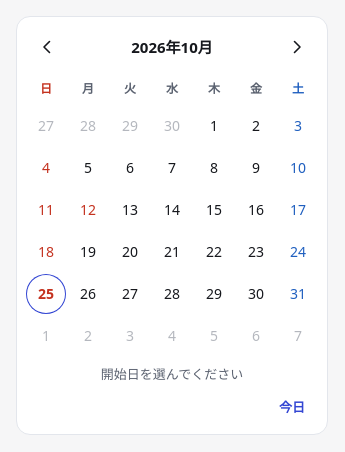
期間の選択 / I-17 › 期間を選んでいる途中の Esc は開始日を取り消す（インライン）
Click the button named "2026年10月9日金曜日".
click(256, 168)  # box left=236, top=148, right=276, bottom=188
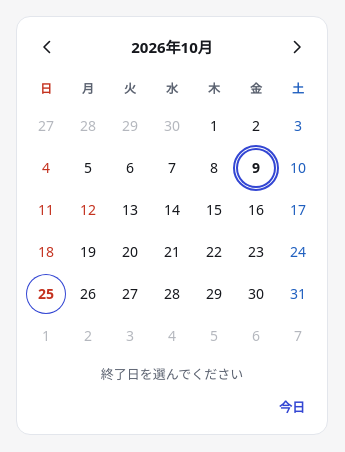
Expected: the message reads "終了日を選んでください", left=101, top=365, right=243, bottom=383
Press Escape
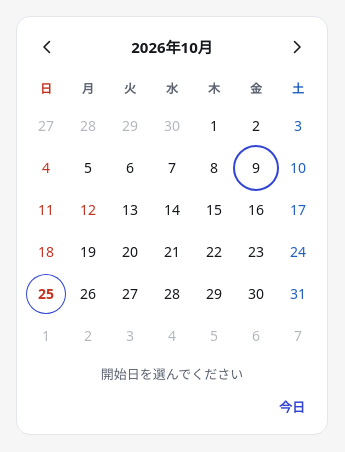
Expected: the message reads "開始日を選んでください", left=101, top=365, right=243, bottom=383
